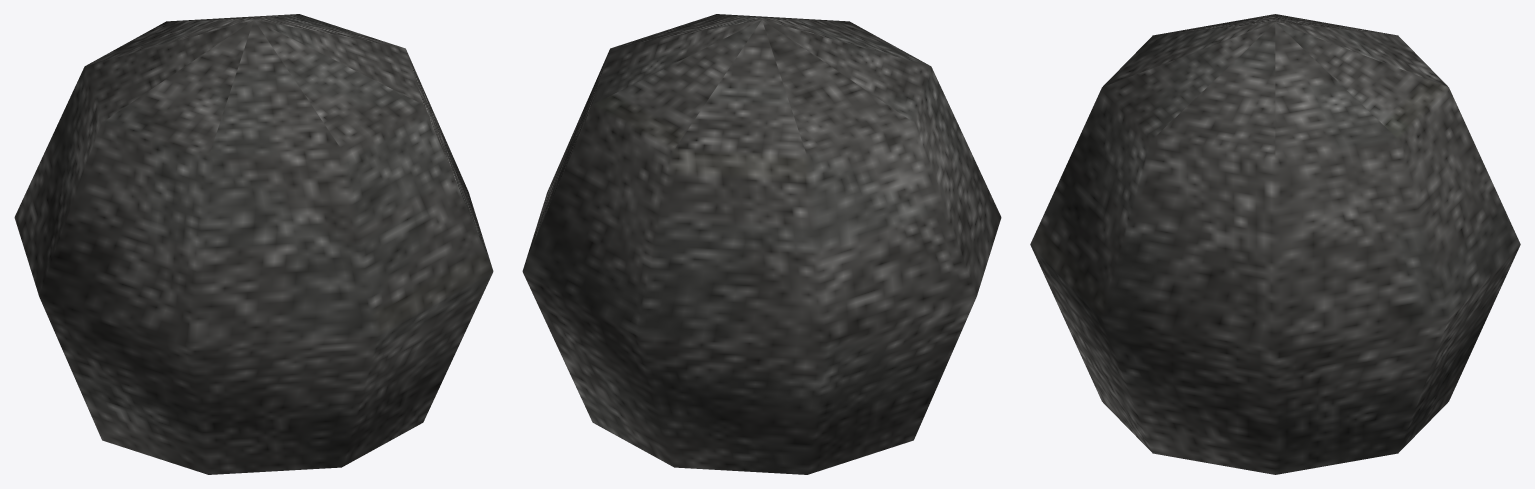
The model's file is Boulder.gltf.
3 renders of one model, left to right at view 1: azimuth 30°, elevation 25°; view 2: azimuth 150°, elevation 25°; view 3: azimuth 270°, elevation 25°, orthographic.
Parts seen in each view (by area): view 1: Sphere; view 2: Sphere; view 3: Sphere.
Boxes of the visible parts, x1,y1,x2,y2 form: Sphere: [14, 14, 493, 474]; Sphere: [522, 14, 1001, 474]; Sphere: [1030, 14, 1520, 474].
Bounding box in the file's own units: 16 × 16 × 16.
Materials: 1 (1 with a texture image).
